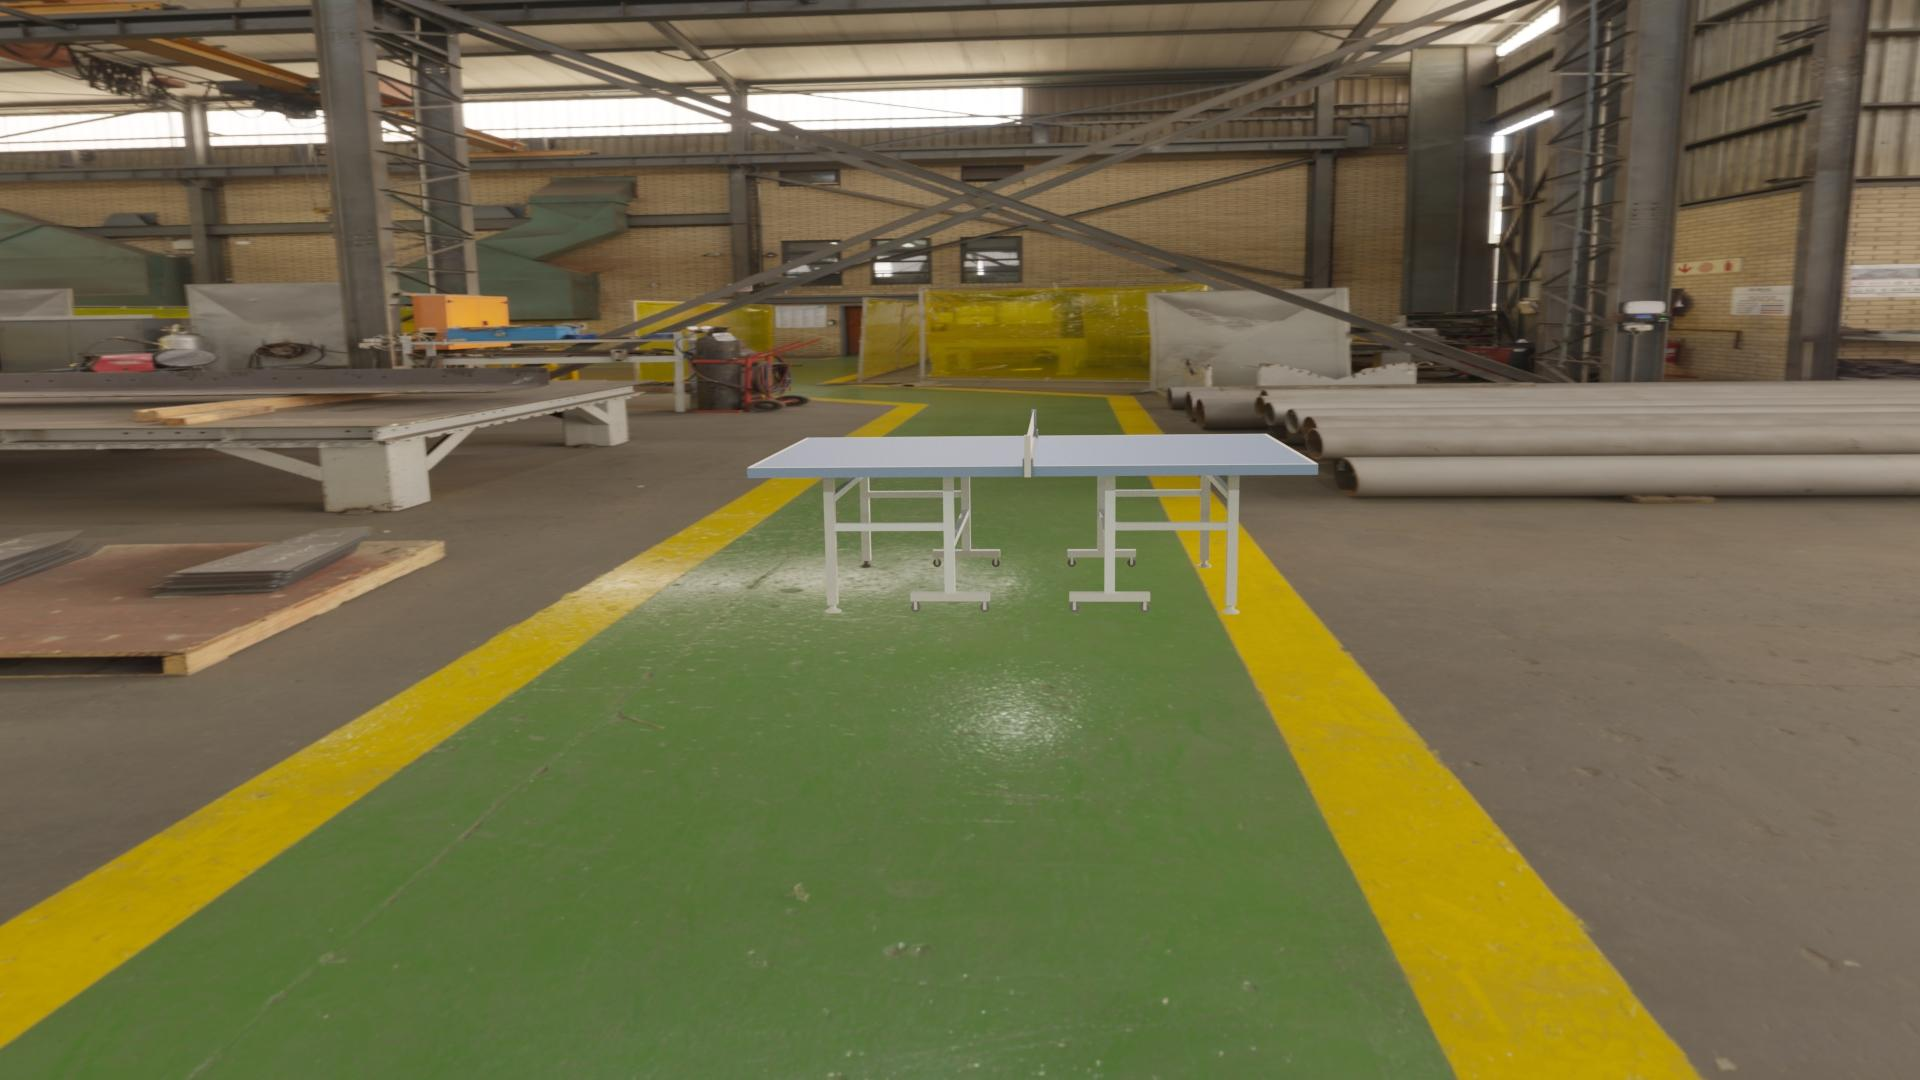table: (752, 434, 1313, 467)
